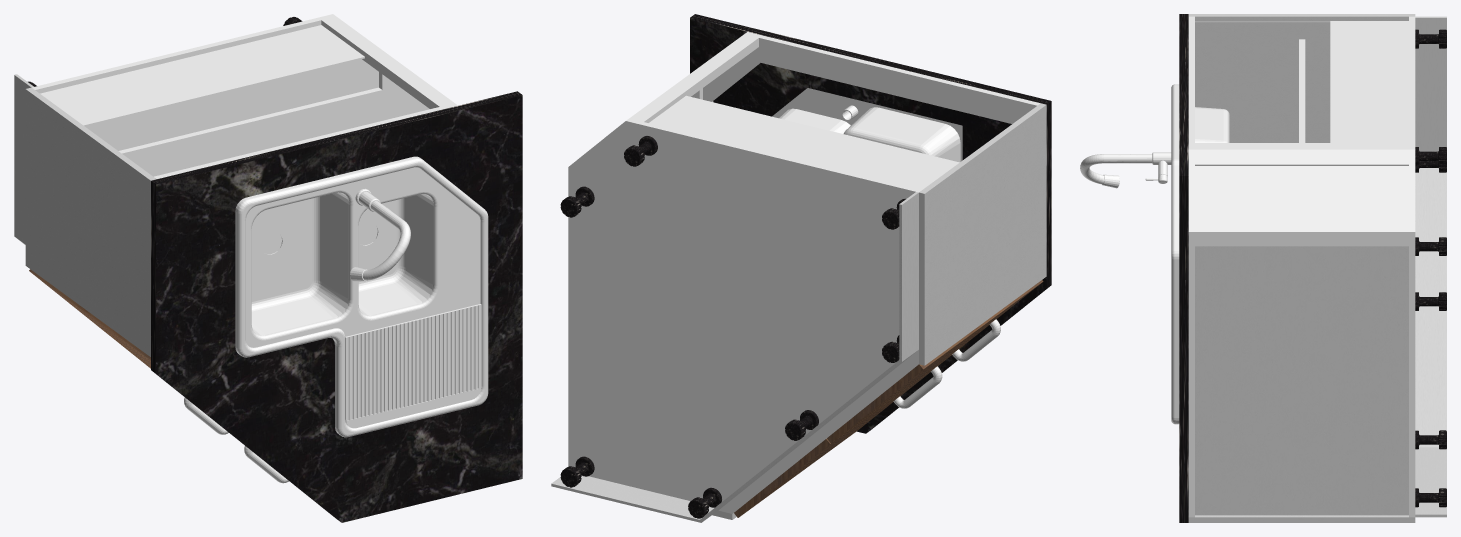
The model's file is kitchen.glb.
The picture shows the model from 3 angles, left to right: view 1: azimuth 30°, elevation 25°; view 2: azimuth 150°, elevation 25°; view 3: azimuth 270°, elevation 25°; orthographic projection. The views are drawn at different scales.
Visible parts, largest first — view 1: Corner Washbassin Kitchen N150625; view 2: Corner Washbassin Kitchen N150625; view 3: Corner Washbassin Kitchen N150625.
Part boxes in pixels (x1=…): Corner Washbassin Kitchen N150625: x1=14, y1=14, x2=522, y2=522; Corner Washbassin Kitchen N150625: x1=551, y1=14, x2=1051, y2=522; Corner Washbassin Kitchen N150625: x1=1080, y1=14, x2=1446, y2=522.
Size of the model in its own units: 1.22 by 1.22 by 1.16.
Materials: 5 (3 with a texture image).
